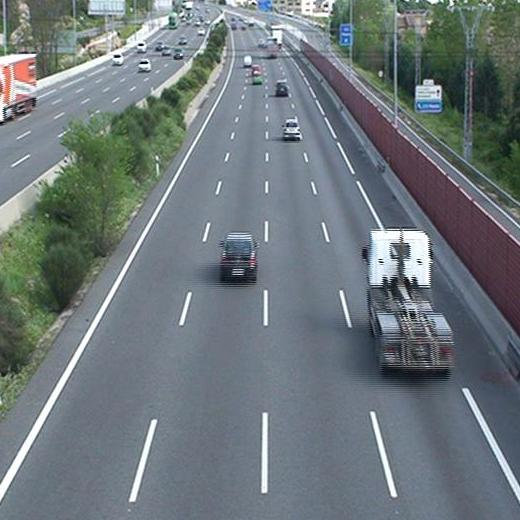car: (218, 234, 258, 280), (282, 120, 301, 140), (275, 81, 289, 98), (251, 71, 261, 86)
small-truck: (363, 231, 454, 374)
